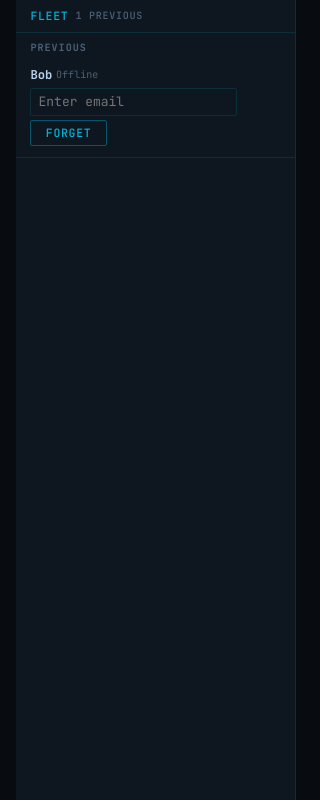
Test: Fleet › Previous › clicking Forget removes the peer row from the UI
What coordinates should you click on to do the following:
click the button "Forget"
I would click on:
 (69, 133)
Its box is [30, 120, 107, 146].
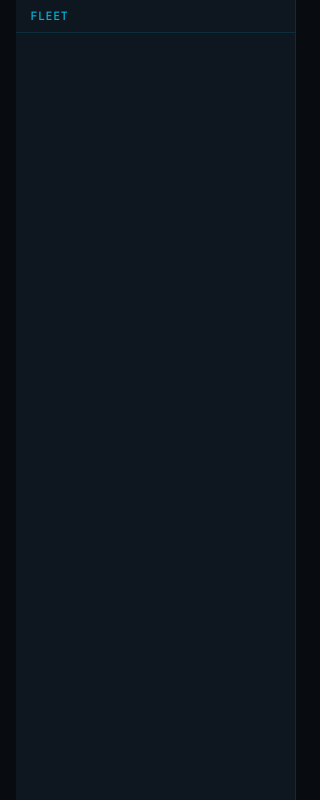
Check: the text "Bob" is gone
